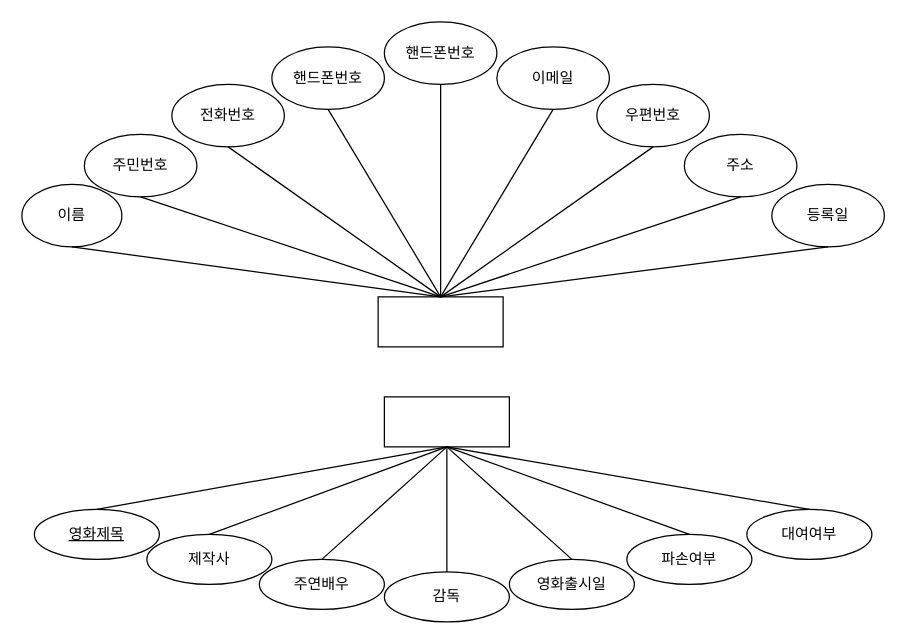
Some shapes in this 906 by 644 pixel diagram are drawn without their labels. The shapes that lost their labels are listed below. From the top down, each one's box as (x1, y1, x2, y2) in pixels, then its label:
(377, 296, 503, 347): 회원
(383, 396, 509, 447): dvd
